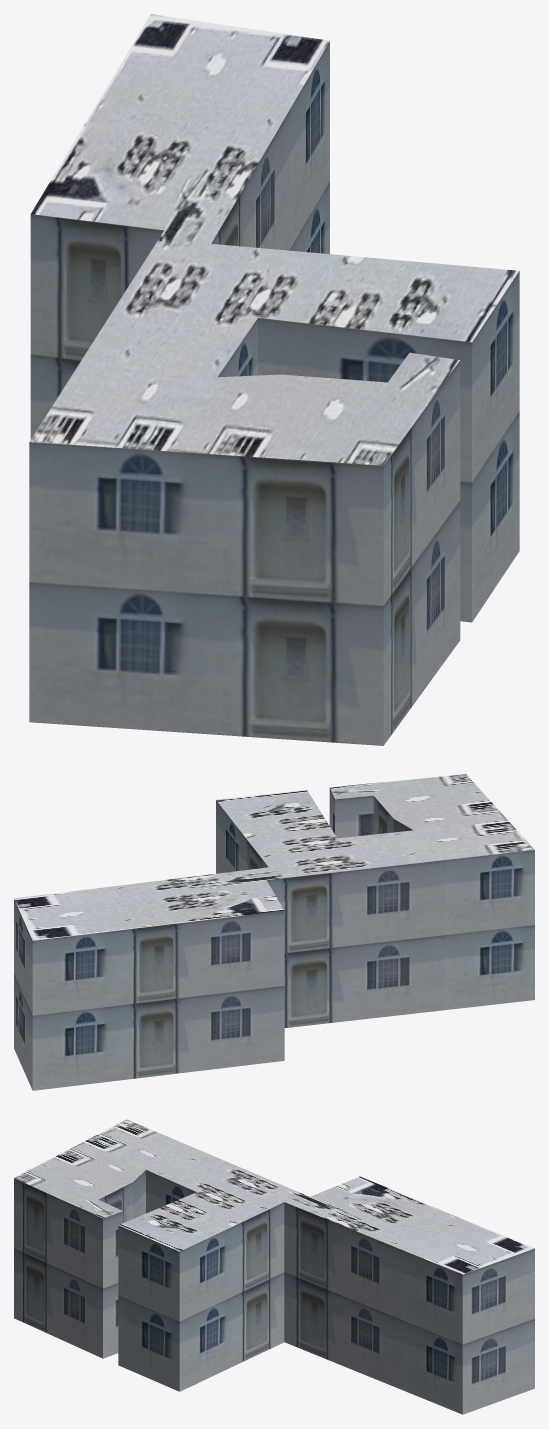
File: ResTex__2894.fbx
3 views of the same model, one above another, from view 1: azimuth 30°, elevation 25°; view 2: azimuth 150°, elevation 25°; view 3: azimuth 270°, elevation 25° (orthographic). The views are drawn at different scales.
Visible parts, largest first — view 1: CityEngineMaterial_17_m, CityEngineMaterial_8_m; view 2: CityEngineMaterial_17_m, CityEngineMaterial_8_m; view 3: CityEngineMaterial_17_m, CityEngineMaterial_8_m.
Part boxes in pixels (bbox=[...]): CityEngineMaterial_17_m: bbox=[29, 41, 519, 745]; CityEngineMaterial_8_m: bbox=[29, 14, 519, 465]; CityEngineMaterial_17_m: bbox=[14, 787, 534, 1090]; CityEngineMaterial_8_m: bbox=[14, 774, 534, 940]; CityEngineMaterial_17_m: bbox=[14, 1170, 534, 1414]; CityEngineMaterial_8_m: bbox=[14, 1119, 534, 1274].
Bounding box in the file's own units: 14.26 × 6 × 20.22.
Materials: 2 (2 with a texture image).
